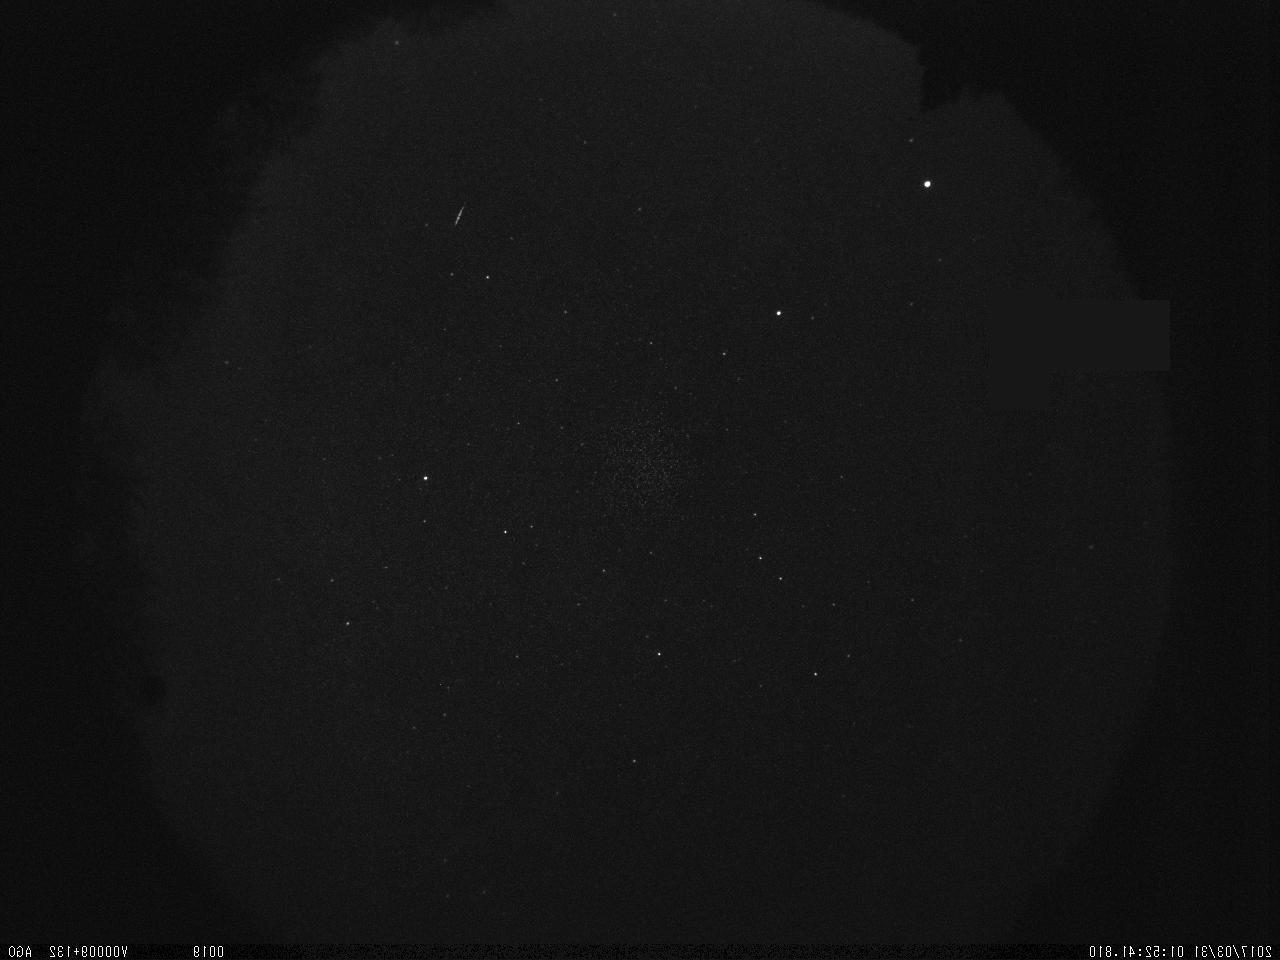meteor: (442, 194, 473, 235)
